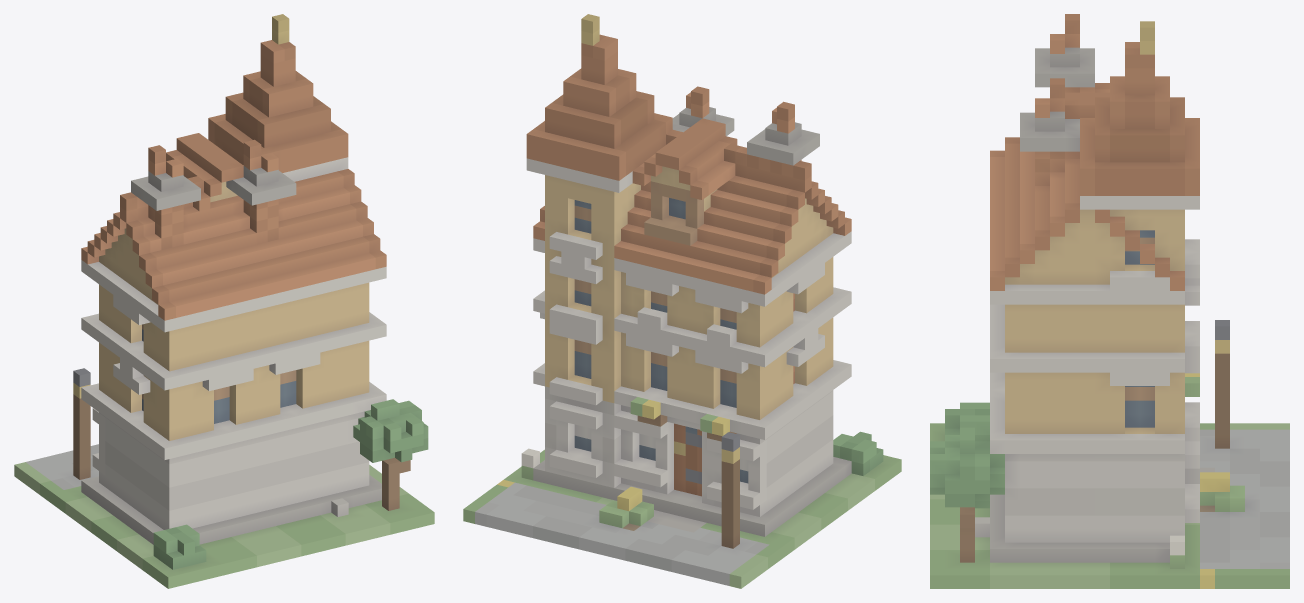
File: house_patricians.v0.glb
3 renders of one model, left to right at view 1: azimuth 30°, elevation 25°; view 2: azimuth 150°, elevation 25°; view 3: azimuth 270°, elevation 25°, orthographic. The views are drawn at different scales.
Visible parts, largest first — view 1: house_patricians; view 2: house_patricians; view 3: house_patricians.
Boxes of the visible parts, x1,y1,x2,y2 form: house_patricians: (14, 14, 434, 588); house_patricians: (463, 14, 901, 588); house_patricians: (930, 14, 1289, 588).
Bounding box in the file's own units: 3 × 4.88 × 3.
